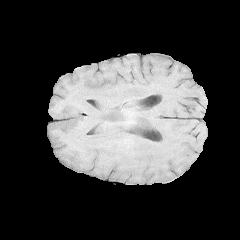glioma: (69, 105, 147, 163)
